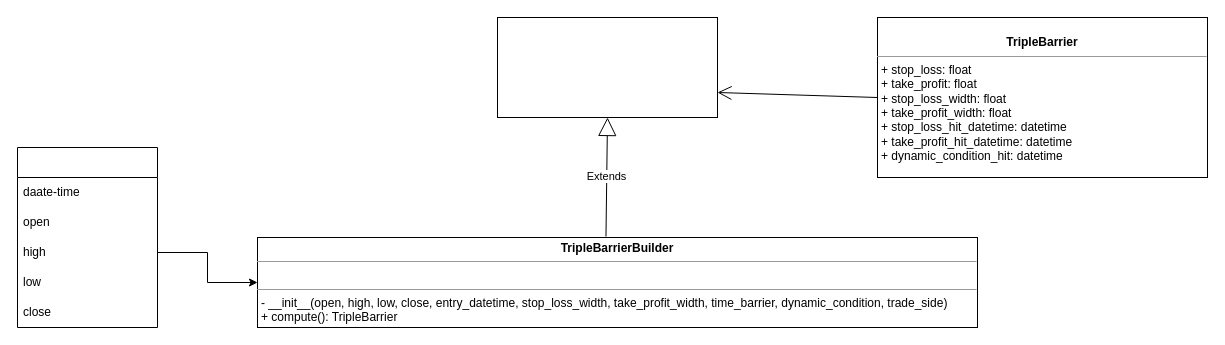
This 1225x345 diagram has some shape labels left out. The box of each missing label's shape, as (x1, y1, x2, y2) in pixels:
<<interface>> TripleBarrierBuilder + compute(): TripleBarrier: (496, 16, 718, 118)
Price: (16, 146, 158, 328)
